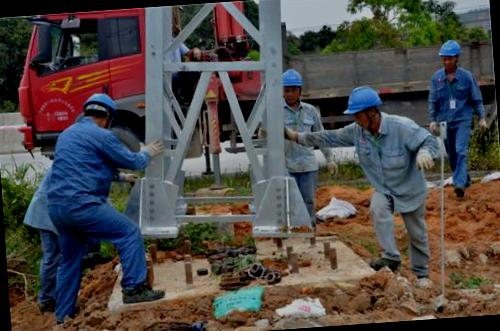person: (279, 77, 450, 284), (35, 85, 176, 321), (422, 26, 494, 198), (274, 60, 340, 244)
